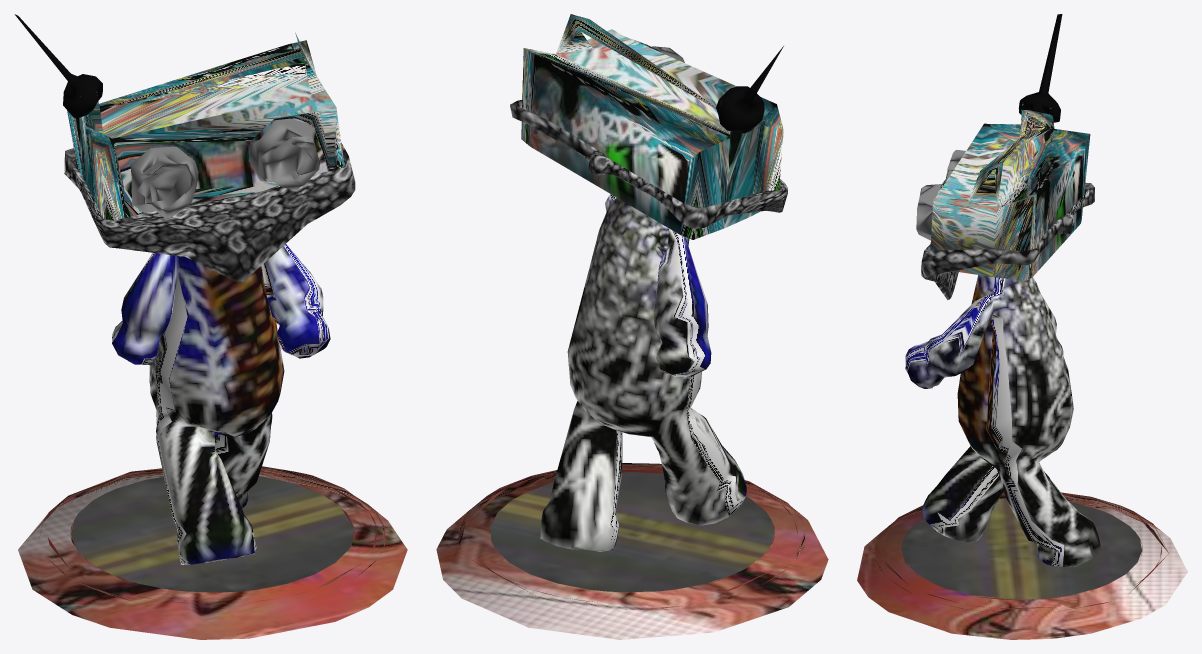
3 renders of one model, left to right at view 1: azimuth 30°, elevation 25°; view 2: azimuth 150°, elevation 25°; view 3: azimuth 270°, elevation 25°, orthographic. The views are drawn at different scales.
Size of the model in its own units: 1.47 by 2.32 by 1.44.
7 materials, 5 textured.
